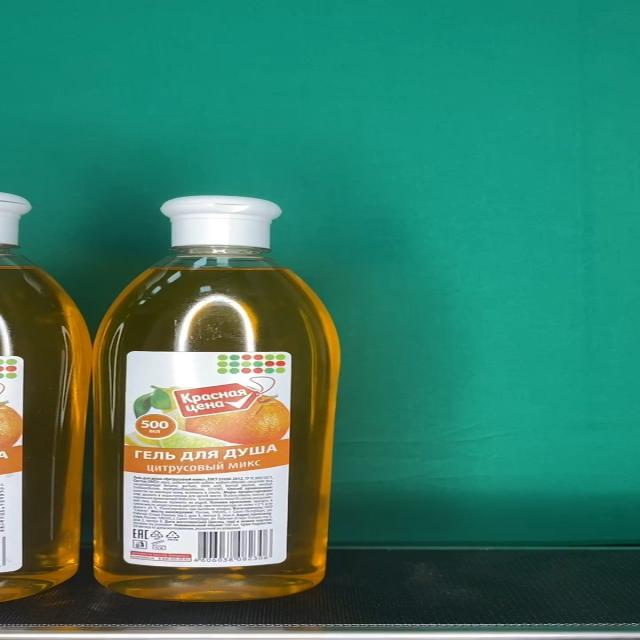Bottle: (89, 194, 339, 600)
Cap: (160, 196, 282, 248)
